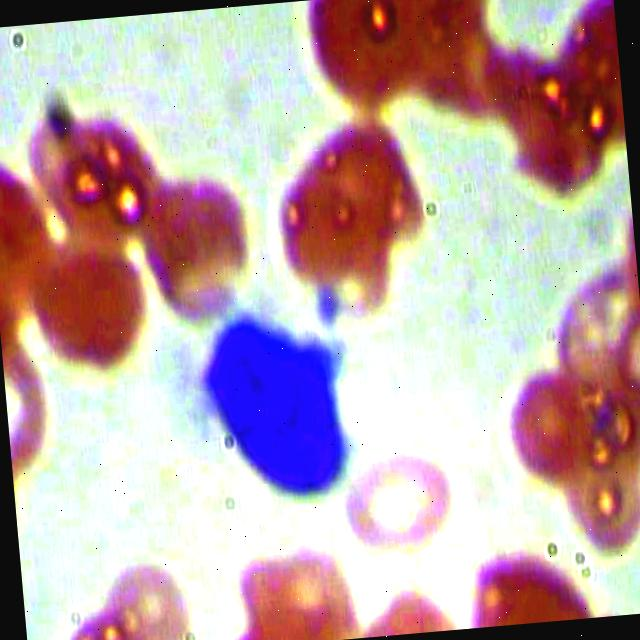Platelets: (310, 282, 344, 332)
RBC: (27, 218, 160, 386), (134, 164, 259, 330), (271, 134, 396, 300), (498, 42, 617, 201), (299, 0, 428, 128), (237, 533, 367, 640), (544, 0, 627, 164), (504, 353, 600, 492), (338, 447, 458, 554), (94, 548, 196, 640)
WBC: (192, 308, 356, 508)
